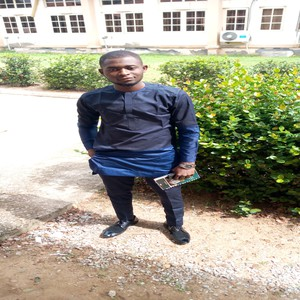Fulokoja_male_student: (84, 52, 187, 239)
